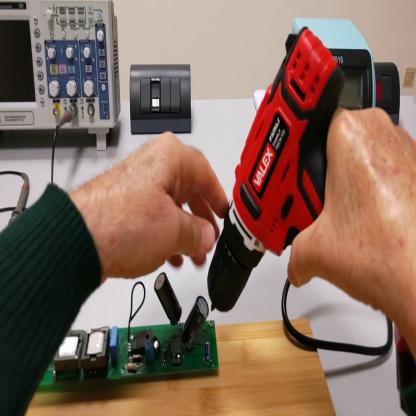electric screwdriver: (209, 27, 416, 416)
hand: (285, 99, 414, 327), (95, 131, 228, 280)
high voltage board: (36, 269, 220, 391)
oscilloscope: (2, 2, 124, 154)
oscilloscope probe tip: (10, 183, 33, 228)
socket: (372, 64, 403, 128)
welder station: (290, 10, 381, 108)
working area: (27, 322, 336, 413)
